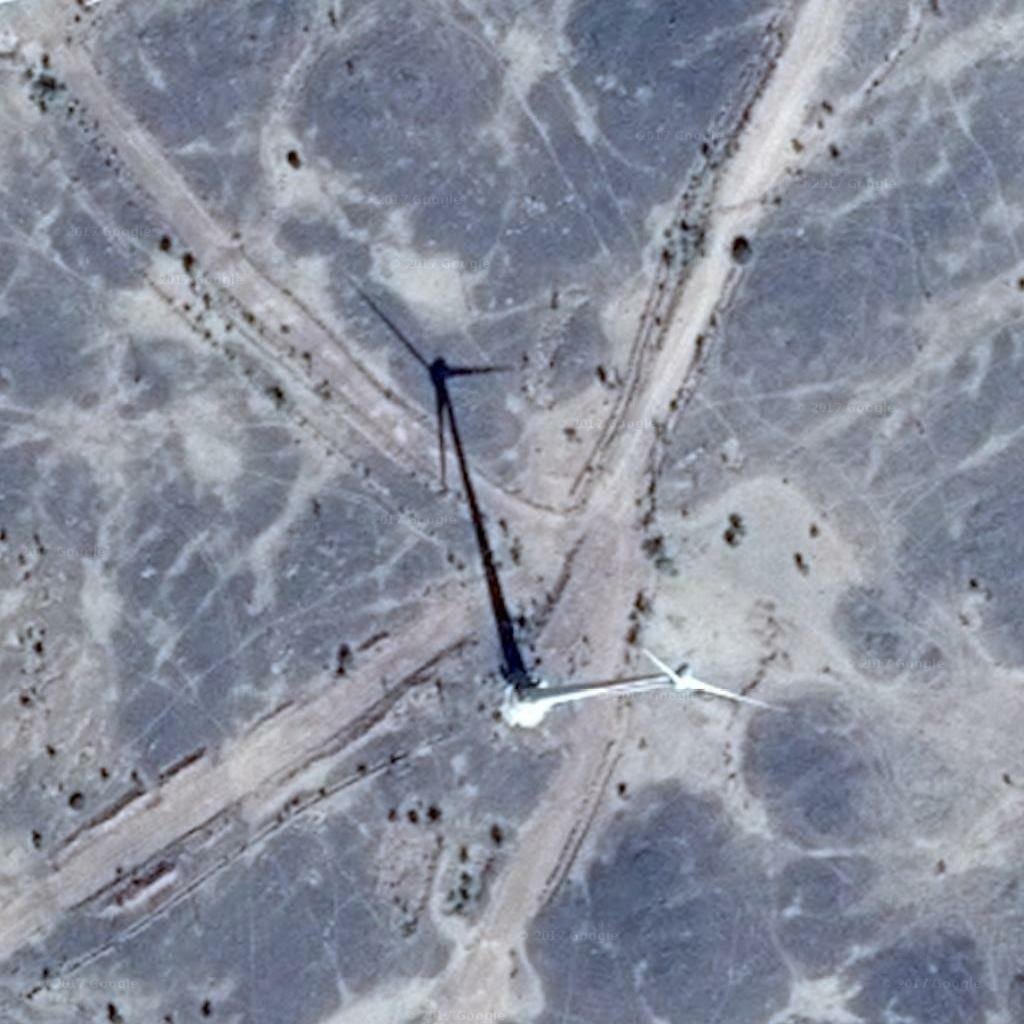Windmill: (346, 277, 540, 657)
